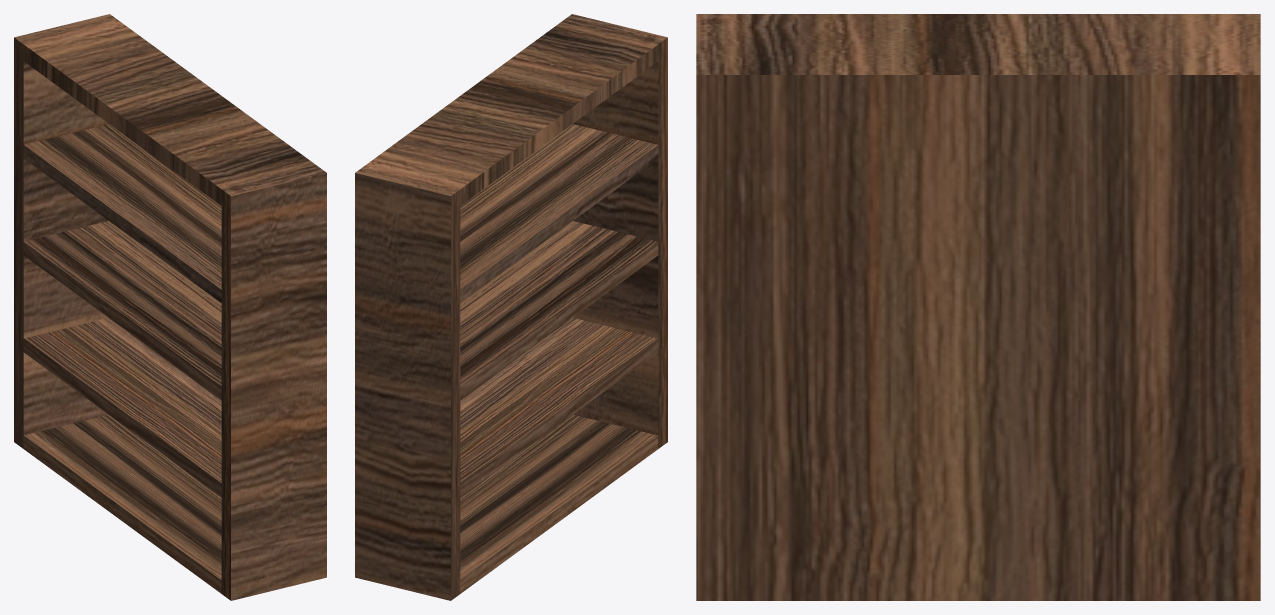
Rendered from bookcase4.fbx.
3 renders of one model, left to right at view 1: azimuth 30°, elevation 25°; view 2: azimuth 150°, elevation 25°; view 3: azimuth 270°, elevation 25°, orthographic. The views are drawn at different scales.
Parts seen in each view (by area): view 1: Box001; view 2: Box001; view 3: Box001.
Part boxes in pixels (x1=…): Box001: x1=14, y1=14, x2=326, y2=600; Box001: x1=355, y1=14, x2=667, y2=600; Box001: x1=696, y1=14, x2=1260, y2=600.
Bounding box in the file's own units: 343 × 1384 × 1346.
